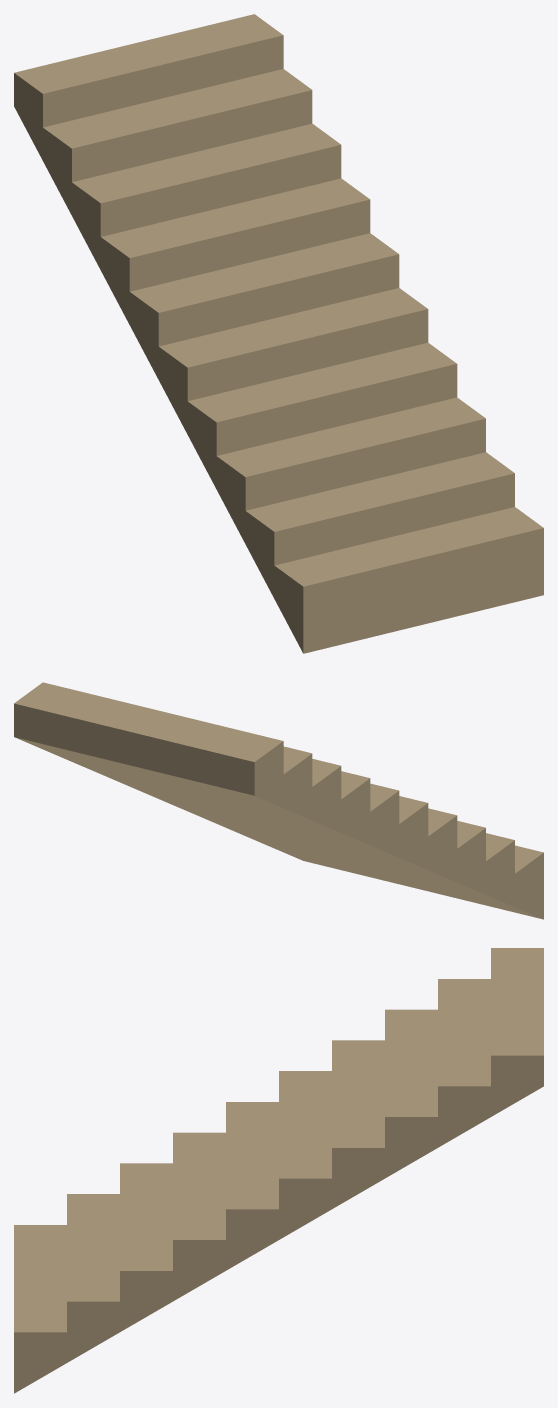
Rendered from MH_Stair_10_Steps.fbx.
3 views of the same model, one above another, from view 1: azimuth 30°, elevation 25°; view 2: azimuth 150°, elevation 25°; view 3: azimuth 270°, elevation 25° (orthographic). The views are drawn at different scales.
Parts seen in each view (by area): view 1: Body; view 2: Body; view 3: Body.
Part boxes in pixels (x1,y1,x2,y2): Body: [14, 14, 543, 653]; Body: [14, 682, 543, 919]; Body: [14, 948, 543, 1393].
Size of the model in its own units: 1.2 by 1.76 by 2.5.
